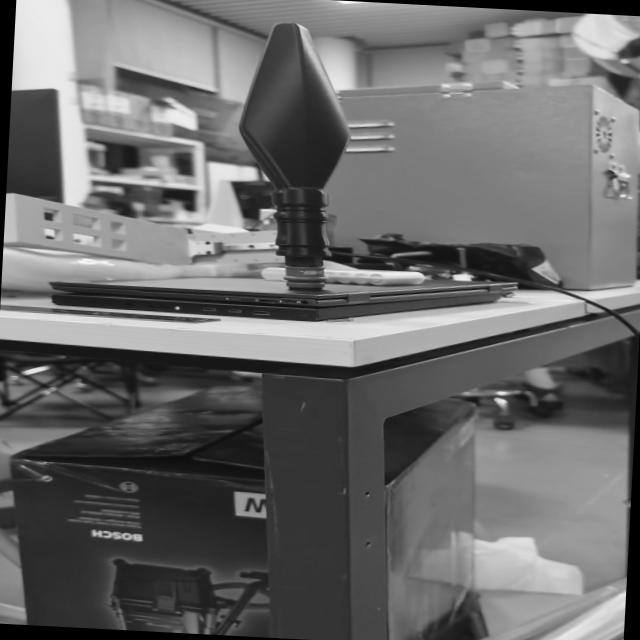base: (282, 264, 326, 290)
